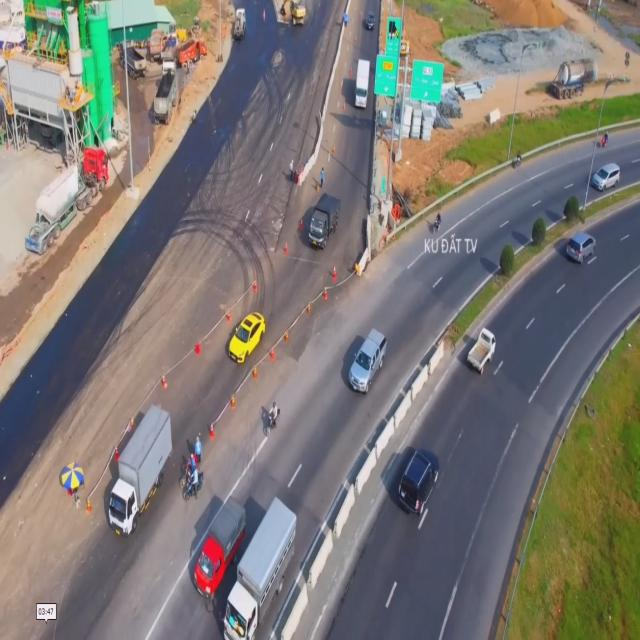car: (398, 444, 438, 514), (349, 327, 388, 395), (227, 309, 267, 363), (593, 161, 619, 194), (569, 231, 594, 262)
motorbike: (185, 472, 205, 501), (264, 403, 281, 432), (431, 210, 442, 233)
truck: (223, 496, 294, 640), (108, 405, 172, 535), (196, 495, 247, 599), (310, 192, 340, 251), (467, 327, 496, 373), (355, 59, 370, 110)
